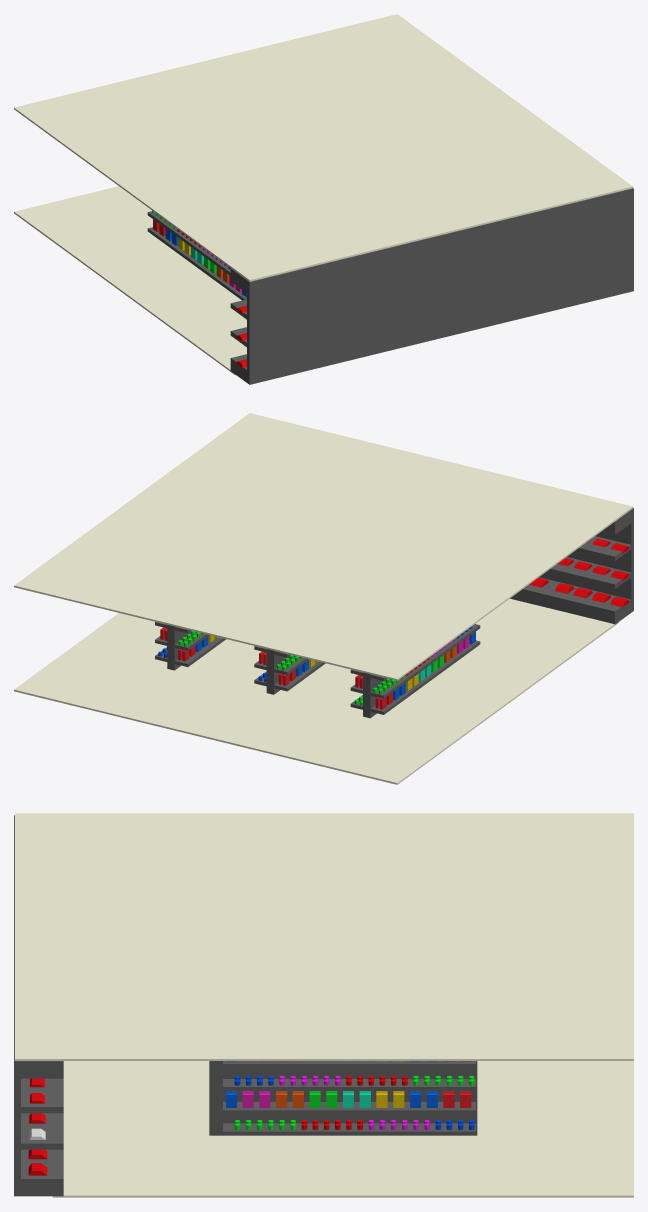
The model's file is ShopScene.fbx.
The picture shows the model from 3 angles, top to bottom: view 1: azimuth 30°, elevation 25°; view 2: azimuth 150°, elevation 25°; view 3: azimuth 270°, elevation 25°; orthographic projection. The views are drawn at different scales.
Visible parts, largest first — view 1: Roof, MeatAisle, Floor, Aisle.002; view 2: Roof, Floor, MeatAisle, Aisle.002, Aisle, Aisle.001; view 3: Roof, Floor, Aisle, MeatAisle.
Boxes of the visible parts, x1,y1,x2,y2 form: Roof: [14, 14, 633, 281]; MeatAisle: [230, 188, 633, 384]; Floor: [14, 186, 246, 375]; Aisle.002: [147, 211, 246, 300]; Roof: [14, 413, 633, 680]; Floor: [14, 598, 618, 784]; MeatAisle: [510, 508, 633, 624]; Aisle.002: [350, 624, 480, 718]; Aisle: [155, 622, 225, 670]; Aisle.001: [254, 646, 325, 694]; Roof: [15, 813, 633, 1060]; Floor: [52, 1061, 633, 1197]; Aisle: [209, 1061, 477, 1135]; MeatAisle: [14, 815, 63, 1196].
Size of the model in its own units: 10477 by 2747 by 11113.
